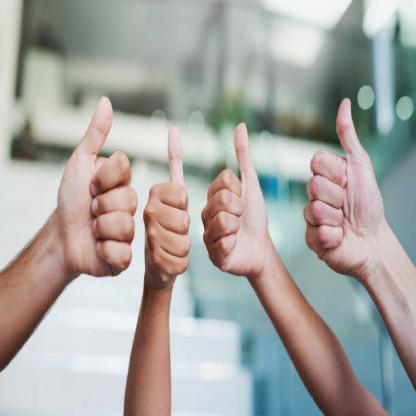thumb_up: (56, 92, 139, 280), (302, 92, 386, 272), (201, 122, 269, 279), (144, 124, 196, 284)
